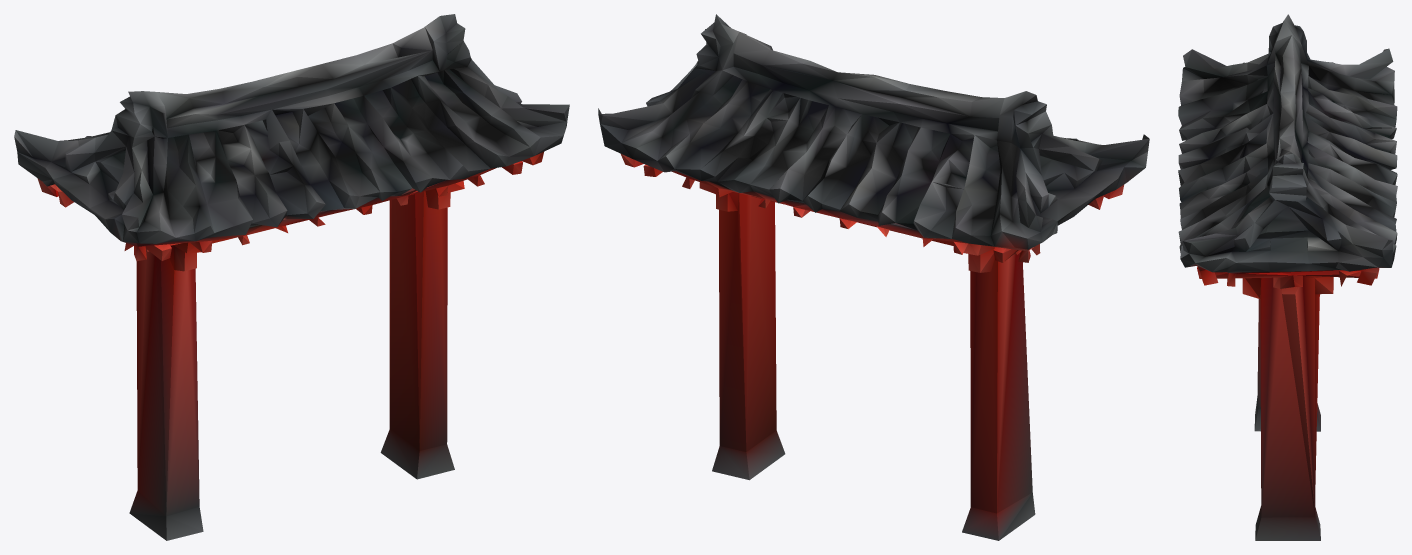
Rendered from gate.glb.
3 renders of one model, left to right at view 1: azimuth 30°, elevation 25°; view 2: azimuth 150°, elevation 25°; view 3: azimuth 270°, elevation 25°, orthographic. The views are drawn at different scales.
Bounding box in the file's own units: 3.62 × 3.4 × 1.72.
